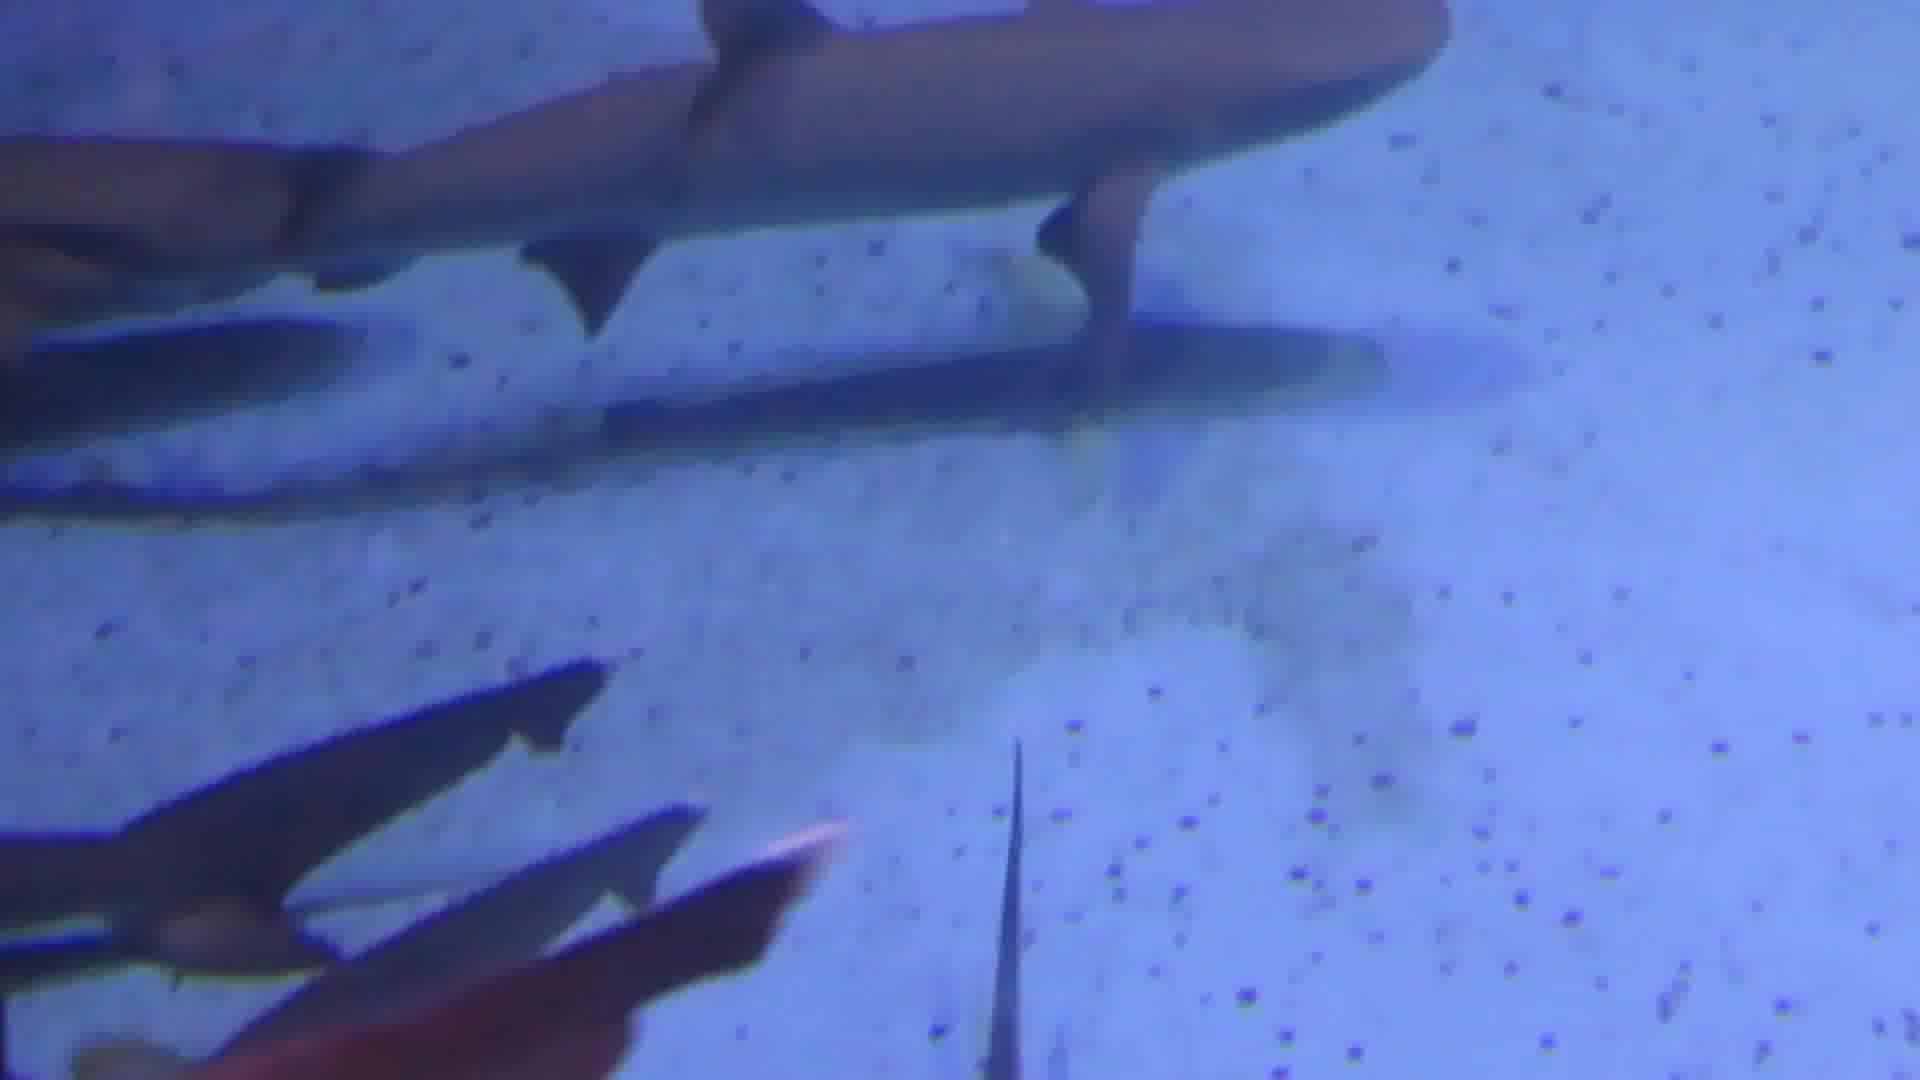Triaenodon obesus: (96, 7, 1472, 359)
